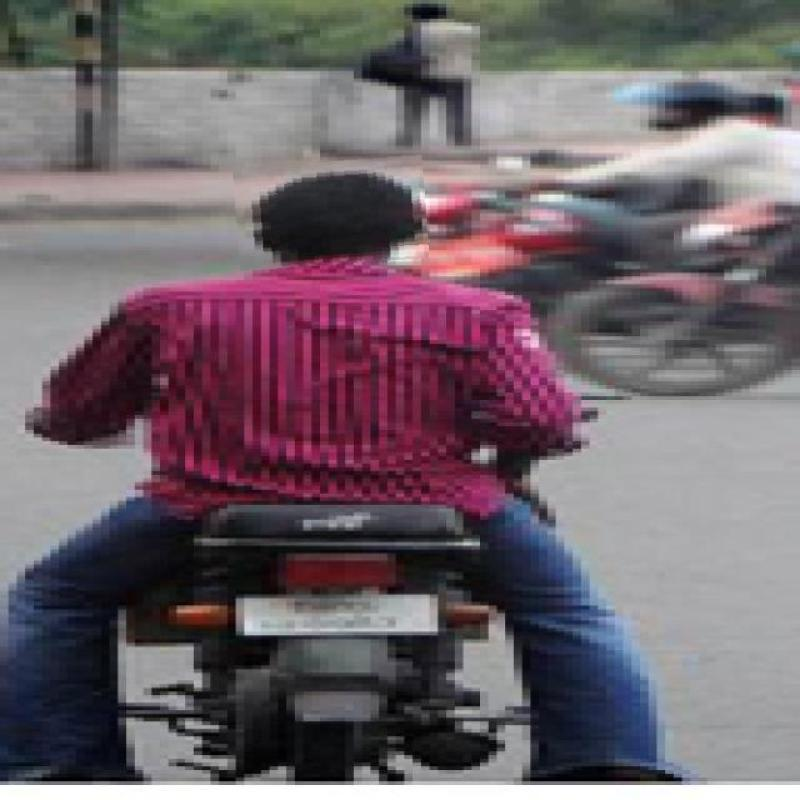nohelmet: (235, 157, 428, 268)
